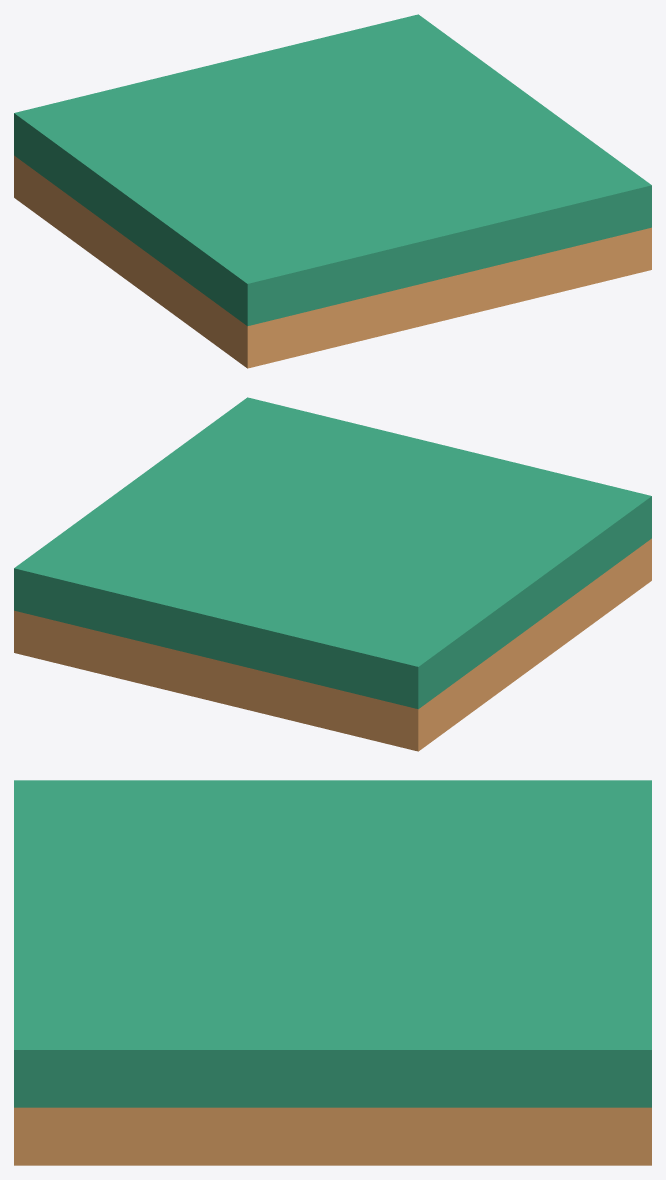
Rendered from TileGrass.fbx.
3 views of the same model, one above another, from view 1: azimuth 30°, elevation 25°; view 2: azimuth 150°, elevation 25°; view 3: azimuth 270°, elevation 25° (orthographic). The views are drawn at different scales.
Visible parts, largest first — view 1: tile002; view 2: tile002; view 3: tile002.
Boxes of the visible parts, <box> form: tile002: <box>14,14,651,368</box>; tile002: <box>14,397,651,751</box>; tile002: <box>14,780,651,1165</box>.
Size of the model in its own units: 39.37 by 7.87 by 39.37.
